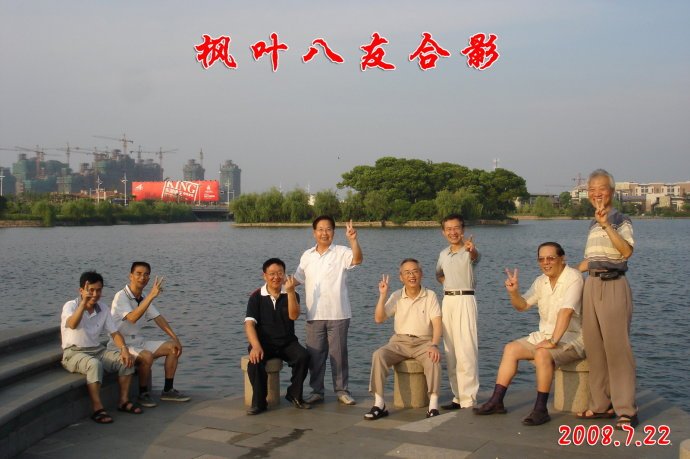handsup: (577, 165, 669, 433), (474, 238, 585, 429), (108, 245, 204, 410), (287, 209, 366, 408), (362, 256, 449, 423), (60, 266, 146, 425), (236, 252, 309, 415), (435, 208, 486, 418)
